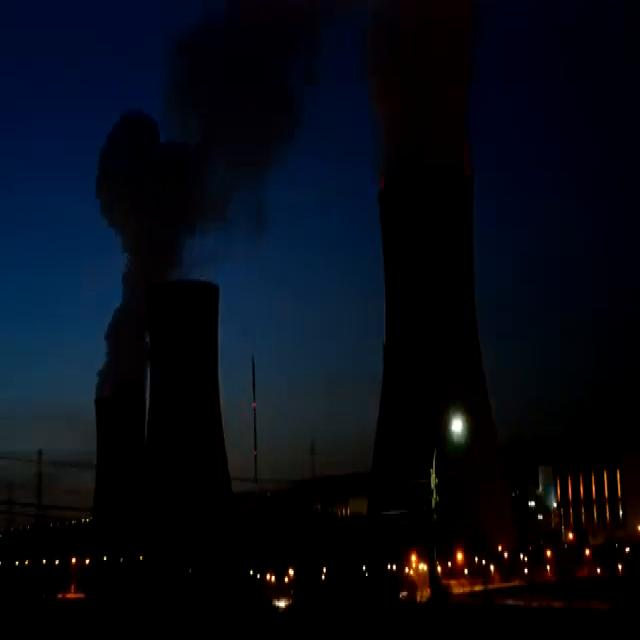smoke: (94, 76, 297, 433), (366, 0, 475, 178)
